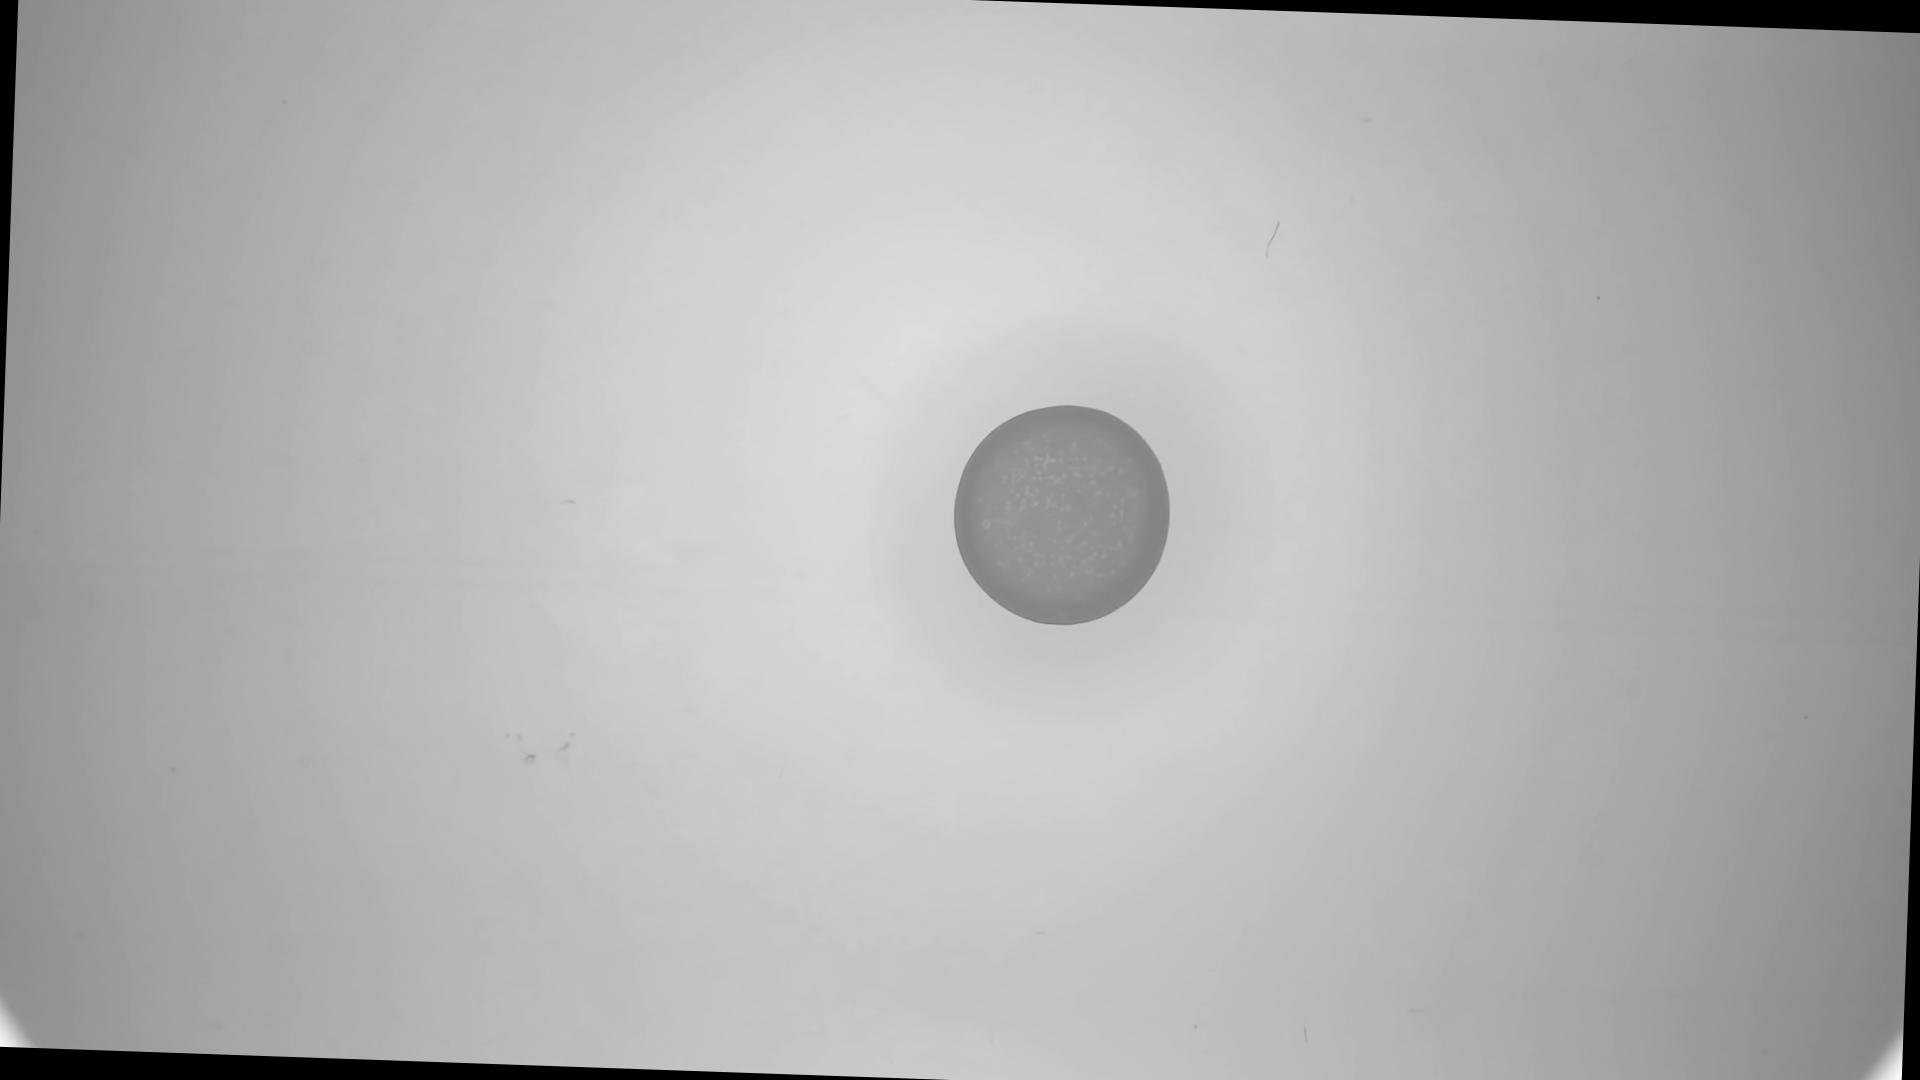normal: (948, 398, 1178, 633)
